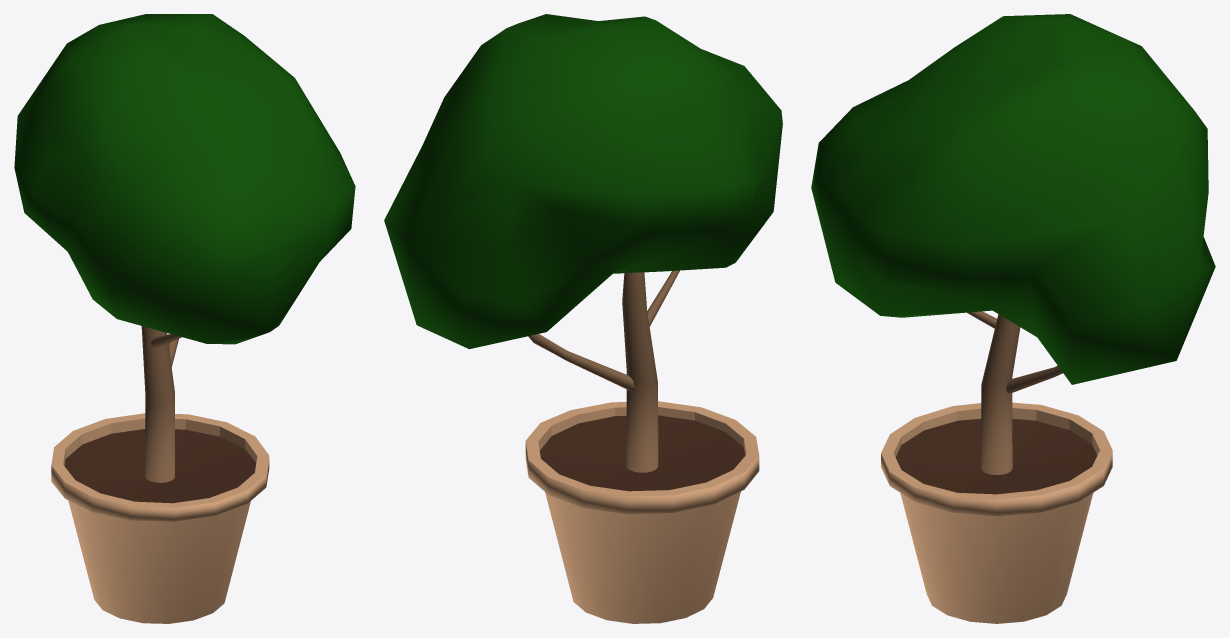
File: tree2.glb
3 renders of one model, left to right at view 1: azimuth 30°, elevation 25°; view 2: azimuth 150°, elevation 25°; view 3: azimuth 270°, elevation 25°, orthographic. The views are drawn at different scales.
Visible parts, largest first — view 1: Tree2; view 2: Tree2; view 3: Tree2.
Boxes of the visible parts, box(x1,y1,x2,y2) form: Tree2: box(14, 14, 355, 623); Tree2: box(384, 14, 782, 623); Tree2: box(811, 14, 1215, 623).
Size of the model in its own units: 0.6627 by 1.2 by 0.7627.
1 material, 1 textured.
